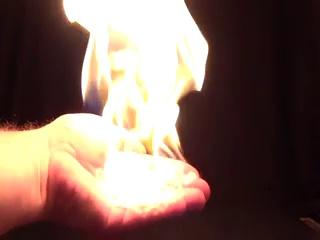Fire: (74, 1, 210, 203)
